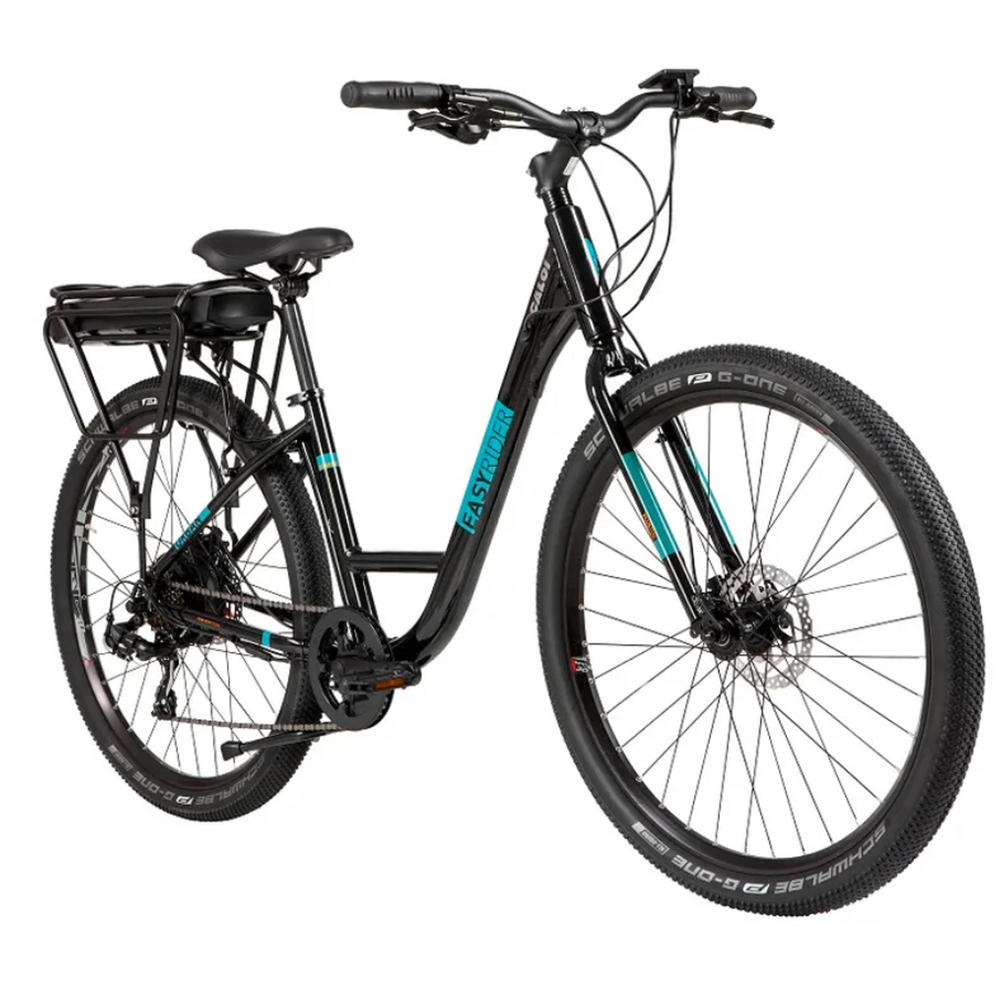UrbanBike: (39, 57, 983, 896)
